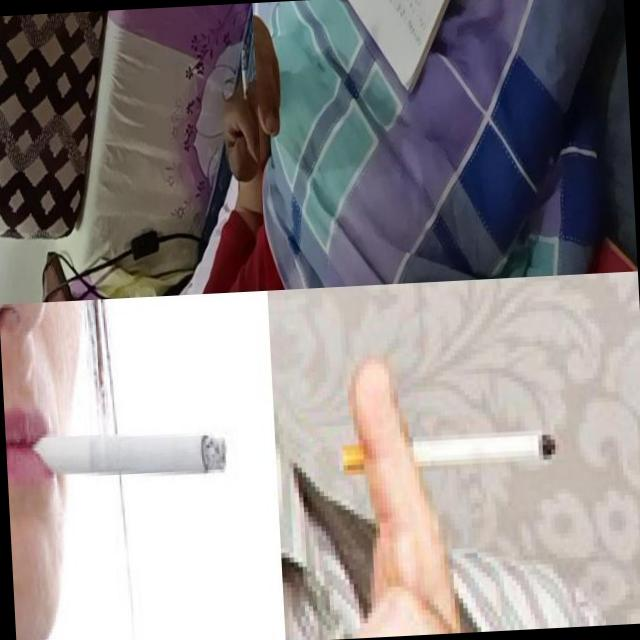cigarette: (32, 428, 228, 483), (342, 424, 564, 471), (241, 47, 250, 110)
